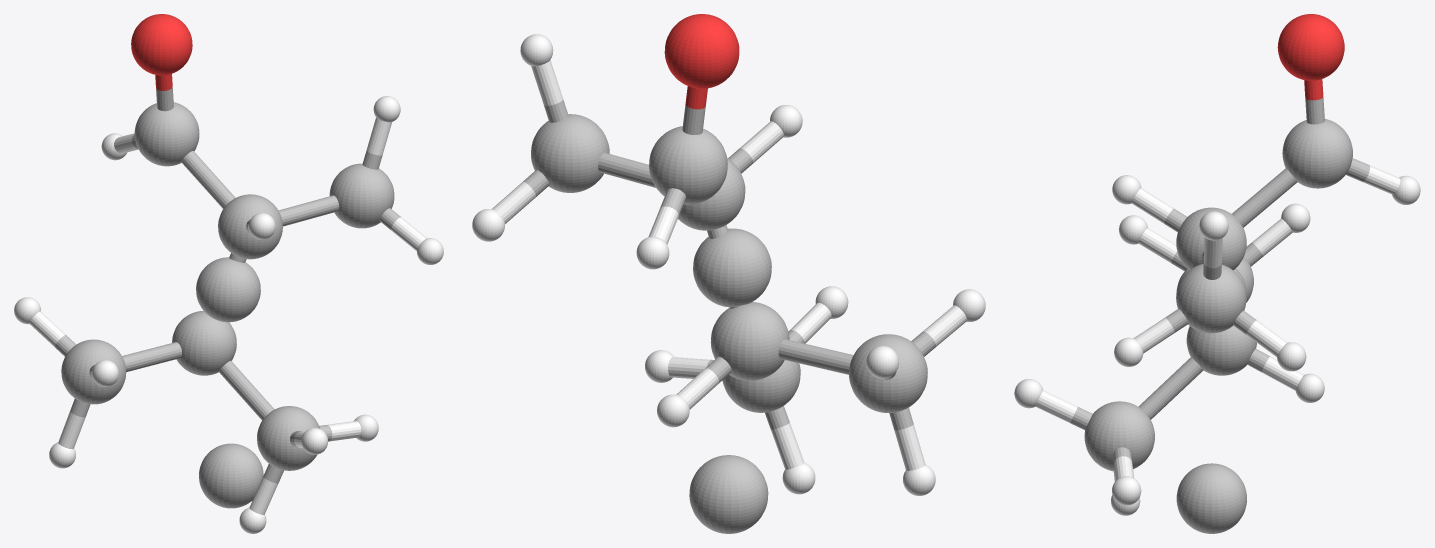
The model's file is 2,3 – dimetil Butanal.fbx.
The picture shows the model from 3 angles, left to right: view 1: azimuth 30°, elevation 25°; view 2: azimuth 150°, elevation 25°; view 3: azimuth 270°, elevation 25°; orthographic projection. The views are drawn at different scales.
Parts seen in each view (by area): view 1: Carbon_ball.011, Carbon_ball, Carbon_mesh|Carbon_ball.011|Dupli|1, Carbon_mesh|Carbon_ball.011|Dupli|4, Carbon_mesh|Carbon_ball.011|Dupli|2, Oxygen_mesh|Oxygen_ball.011|Dupli|, Carbon_mesh|Carbon_ball.011|Dupli|, Carbon_mesh|Carbon_ball.011|Dupli|5, Carbon_mesh|Carbon_ball.011|Dupli|3, Hydrogen_mesh|Hydrogen_ball.011|Dupli|1, Hydrogen_mesh|Hydrogen_ball.011|Dupli|3, Hydrogen_mesh|Hydrogen_ball.011|Dupli|9 (+5 smaller); view 2: Carbon_ball, Carbon_ball.011, Carbon_mesh|Carbon_ball.011|Dupli|4, Carbon_mesh|Carbon_ball.011|Dupli|2, Carbon_mesh|Carbon_ball.011|Dupli|1, Oxygen_mesh|Oxygen_ball.011|Dupli|, Carbon_mesh|Carbon_ball.011|Dupli|5, Carbon_mesh|Carbon_ball.011|Dupli|3, Carbon_mesh|Carbon_ball.011|Dupli|, Hydrogen_mesh|Hydrogen_ball.011|Dupli|, Hydrogen_mesh|Hydrogen_ball.011|Dupli|11, Hydrogen_mesh|Hydrogen_ball.011|Dupli|2 (+8 smaller); view 3: Carbon_ball, Carbon_mesh|Carbon_ball.011|Dupli|1, Carbon_mesh|Carbon_ball.011|Dupli|4, Oxygen_mesh|Oxygen_ball.011|Dupli|, Carbon_mesh|Carbon_ball.011|Dupli|3, Carbon_mesh|Carbon_ball.011|Dupli|2, Carbon_mesh|Carbon_ball.011|Dupli|, Hydrogen_mesh|Hydrogen_ball.011|Dupli|8, Hydrogen_mesh|Hydrogen_ball.011|Dupli|4, Hydrogen_mesh|Hydrogen_ball.011|Dupli|6, Hydrogen_mesh|Hydrogen_ball.011|Dupli|7, Hydrogen_mesh|Hydrogen_ball.011|Dupli|2 (+5 smaller).
Part boxes in pixels (<box>): Carbon_ball.011: <box>196,257,260,322</box>; Carbon_ball: <box>199,443,263,508</box>; Carbon_mesh|Carbon_ball.011|Dupli|1: <box>134,102,199,166</box>; Carbon_mesh|Carbon_ball.011|Dupli|4: <box>329,163,394,228</box>; Carbon_mesh|Carbon_ball.011|Dupli|2: <box>172,311,236,375</box>; Oxygen_mesh|Oxygen_ball.011|Dupli|: <box>131,14,192,75</box>; Carbon_mesh|Carbon_ball.011|Dupli|: <box>218,194,282,259</box>; Carbon_mesh|Carbon_ball.011|Dupli|5: <box>61,339,126,404</box>; Carbon_mesh|Carbon_ball.011|Dupli|3: <box>257,406,320,470</box>; Hydrogen_mesh|Hydrogen_ball.011|Dupli|1: <box>248,213,275,239</box>; Hydrogen_mesh|Hydrogen_ball.011|Dupli|3: <box>301,428,328,454</box>; Hydrogen_mesh|Hydrogen_ball.011|Dupli|9: <box>92,360,118,386</box>; Carbon_ball: <box>689,455,768,533</box>; Carbon_ball.011: <box>693,228,771,307</box>; Carbon_mesh|Carbon_ball.011|Dupli|4: <box>531,114,609,192</box>; Carbon_mesh|Carbon_ball.011|Dupli|2: <box>710,302,789,380</box>; Carbon_mesh|Carbon_ball.011|Dupli|1: <box>649,126,727,204</box>; Oxygen_mesh|Oxygen_ball.011|Dupli|: <box>664,14,739,88</box>; Carbon_mesh|Carbon_ball.011|Dupli|5: <box>849,334,927,412</box>; Carbon_mesh|Carbon_ball.011|Dupli|3: <box>722,360,800,412</box>; Carbon_mesh|Carbon_ball.011|Dupli|: <box>678,158,745,230</box>; Hydrogen_mesh|Hydrogen_ball.011|Dupli|: <box>636,236,669,269</box>; Hydrogen_mesh|Hydrogen_ball.011|Dupli|11: <box>866,345,898,378</box>; Hydrogen_mesh|Hydrogen_ball.011|Dupli|2: <box>657,394,689,427</box>; Carbon_ball: <box>1176,463,1246,533</box>; Carbon_mesh|Carbon_ball.011|Dupli|1: <box>1282,119,1352,188</box>; Carbon_mesh|Carbon_ball.011|Dupli|4: <box>1176,263,1246,333</box>; Oxygen_mesh|Oxygen_ball.011|Dupli|: <box>1277,14,1344,80</box>; Carbon_mesh|Carbon_ball.011|Dupli|3: <box>1084,401,1154,471</box>; Carbon_mesh|Carbon_ball.011|Dupli|2: <box>1186,325,1256,375</box>; Carbon_mesh|Carbon_ball.011|Dupli|: <box>1176,207,1246,270</box>; Hydrogen_mesh|Hydrogen_ball.011|Dupli|8: <box>1199,211,1228,240</box>; Hydrogen_mesh|Hydrogen_ball.011|Dupli|4: <box>1112,476,1141,505</box>; Hydrogen_mesh|Hydrogen_ball.011|Dupli|6: <box>1277,342,1306,371</box>; Hydrogen_mesh|Hydrogen_ball.011|Dupli|7: <box>1114,337,1143,366</box>; Hydrogen_mesh|Hydrogen_ball.011|Dupli|2: <box>1295,373,1324,402</box>.
Size of the model in its own units: 478 by 603 by 443.
